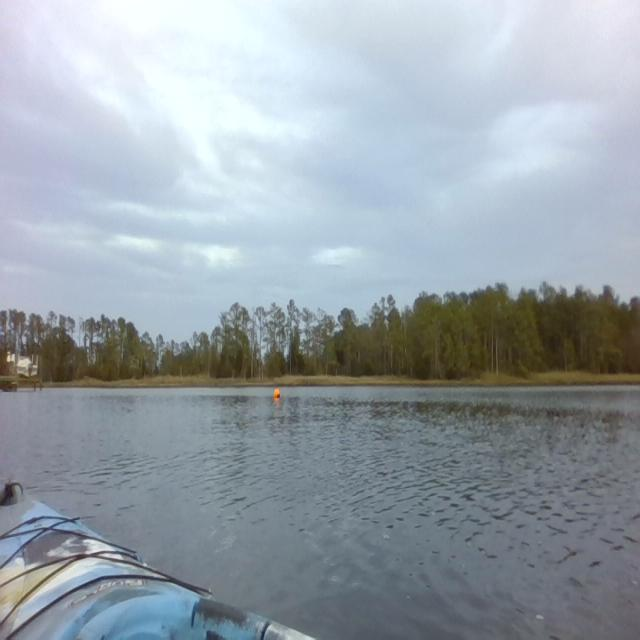Buoy: (273, 385, 281, 402)
